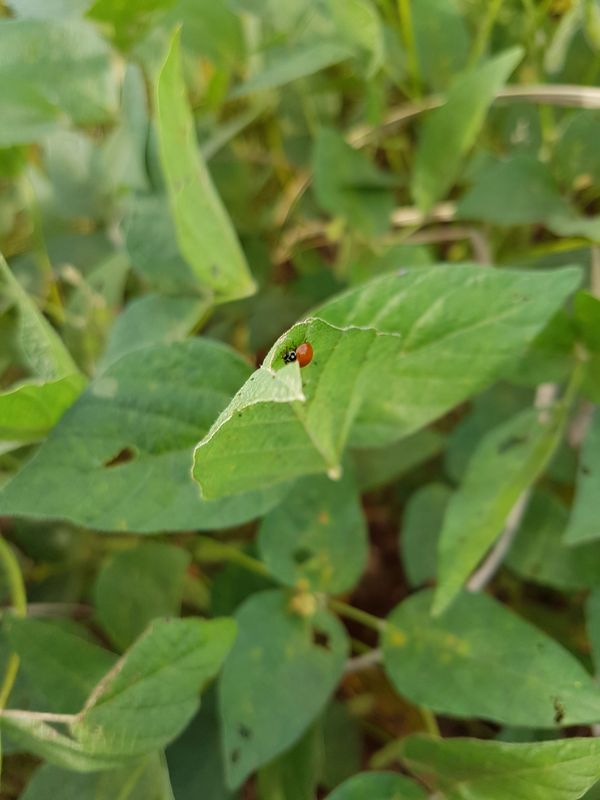Coccinellidae: (267, 326, 326, 385)
